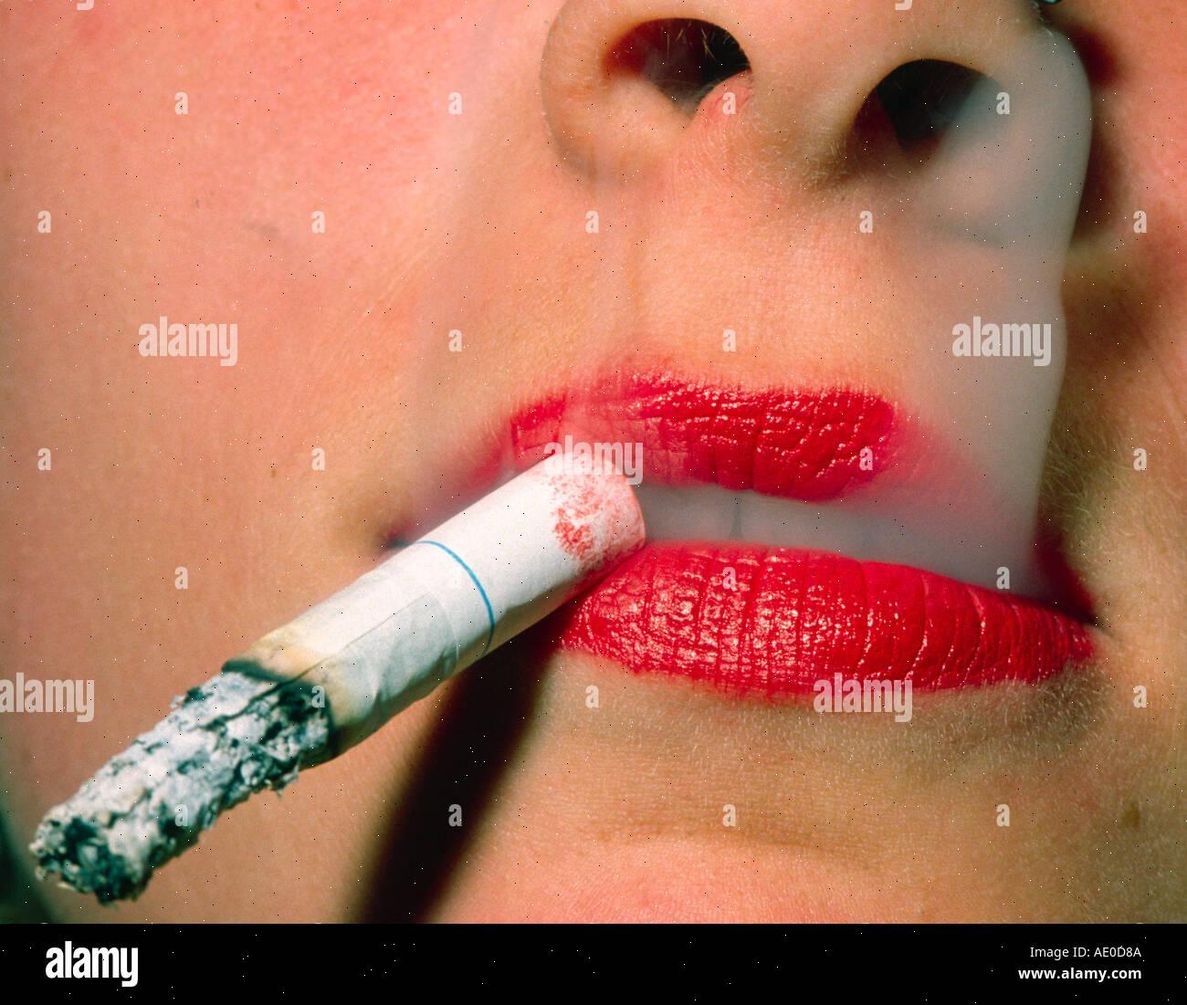cigarette: (30, 455, 644, 903)
